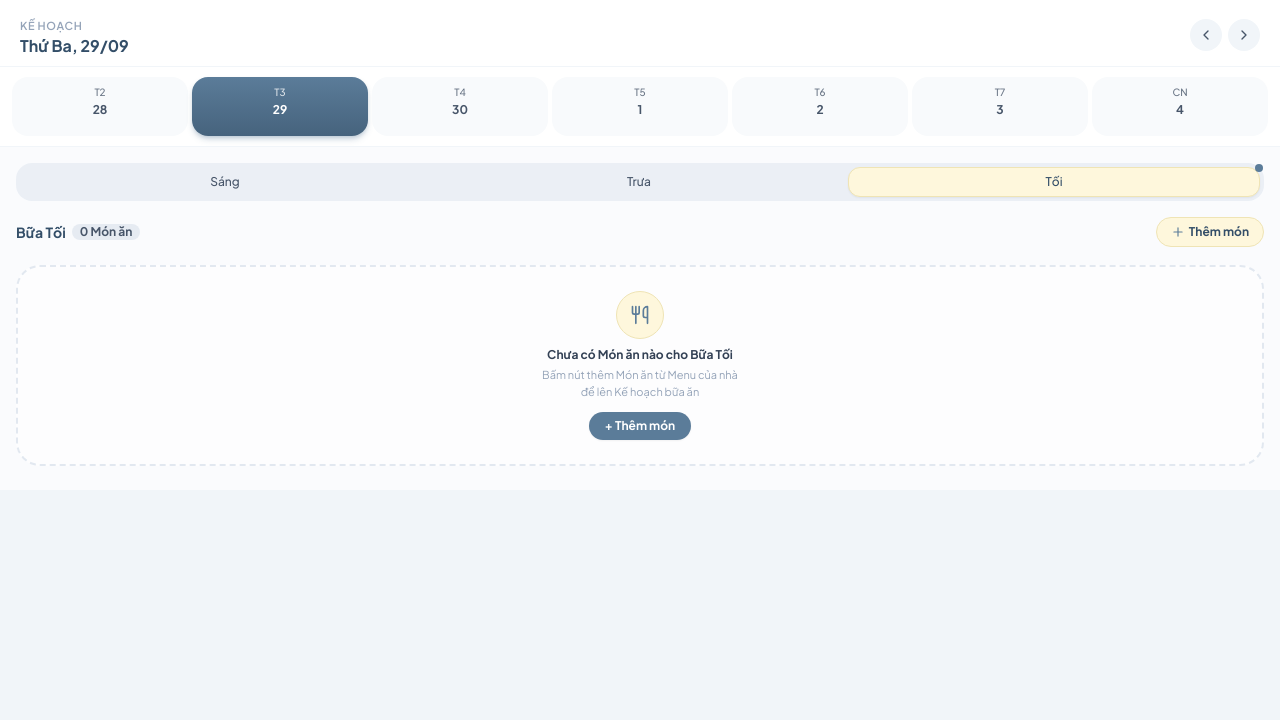
Test: Weekly Plan Integration › allows ticking one or multiple Món ăn and confirms adding them to current meal
// Open drawer
Click the button with test id "add-dish-to-plan-btn" at (1210, 232), box left=1156, top=217, right=1264, bottom=247
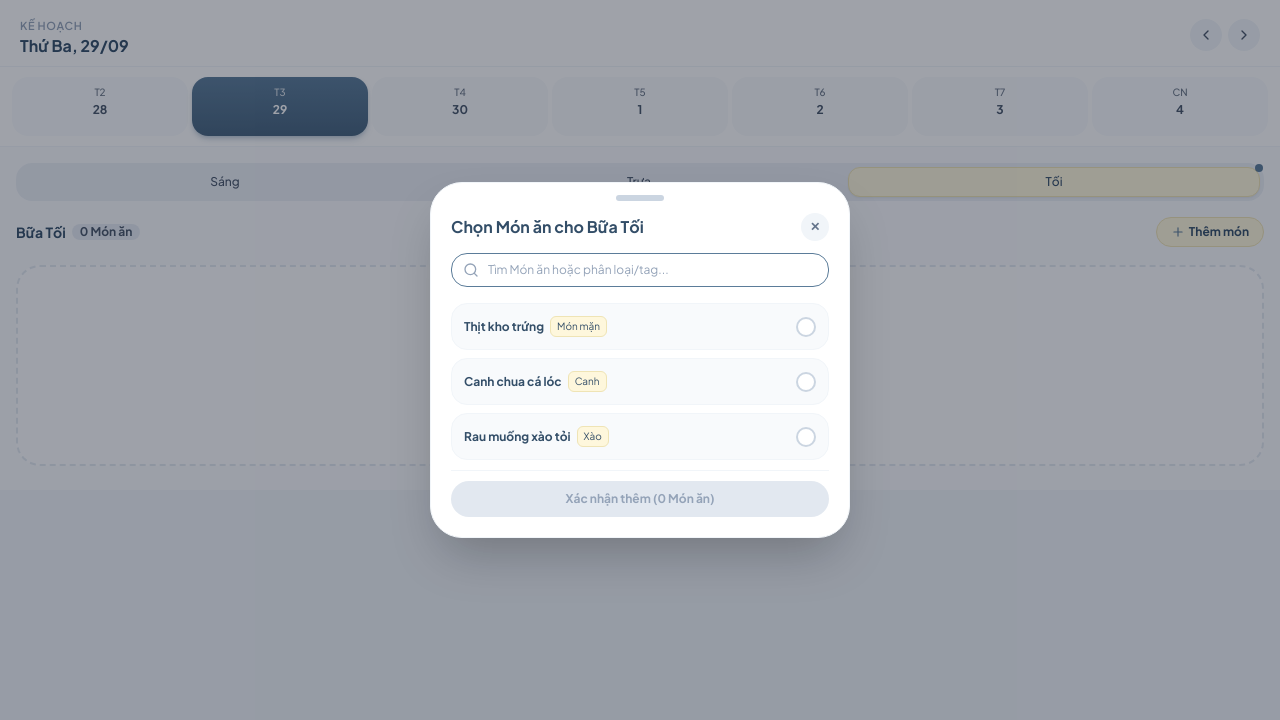
Click the element showing "Thịt kho trứng Món mặn" at (640, 326), box left=451, top=303, right=829, bottom=350
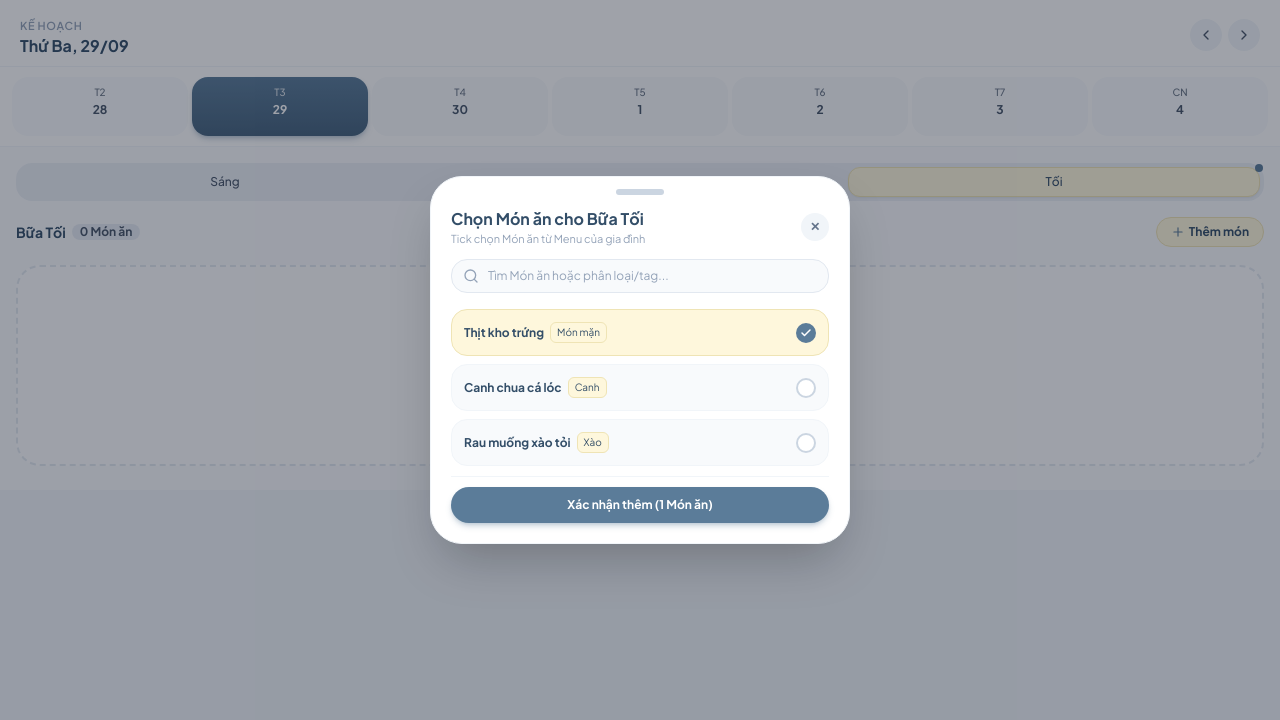
Click the element showing "Canh chua cá lóc Canh" at (640, 388), box left=451, top=364, right=829, bottom=411
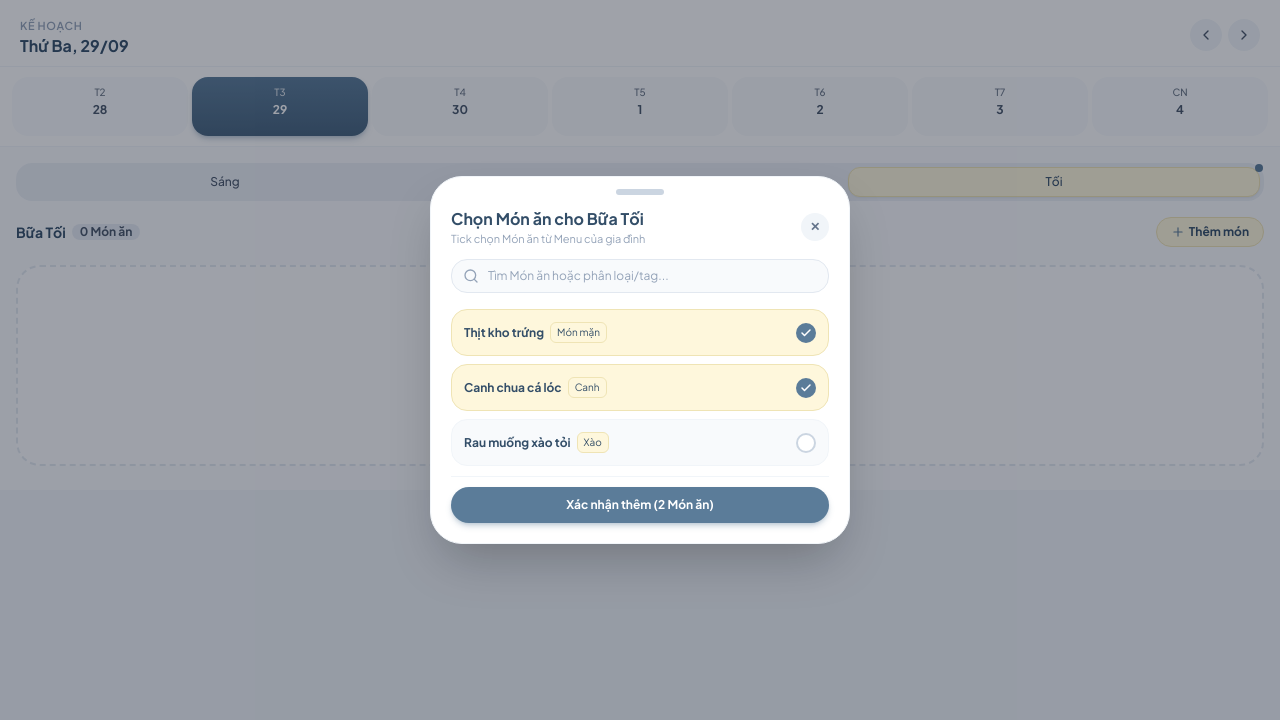
Result: the button with test id "confirm-add-dishes-btn" shows "2 Món ăn"
Click the button with test id "confirm-add-dishes-btn" at (640, 505), box left=451, top=487, right=829, bottom=523
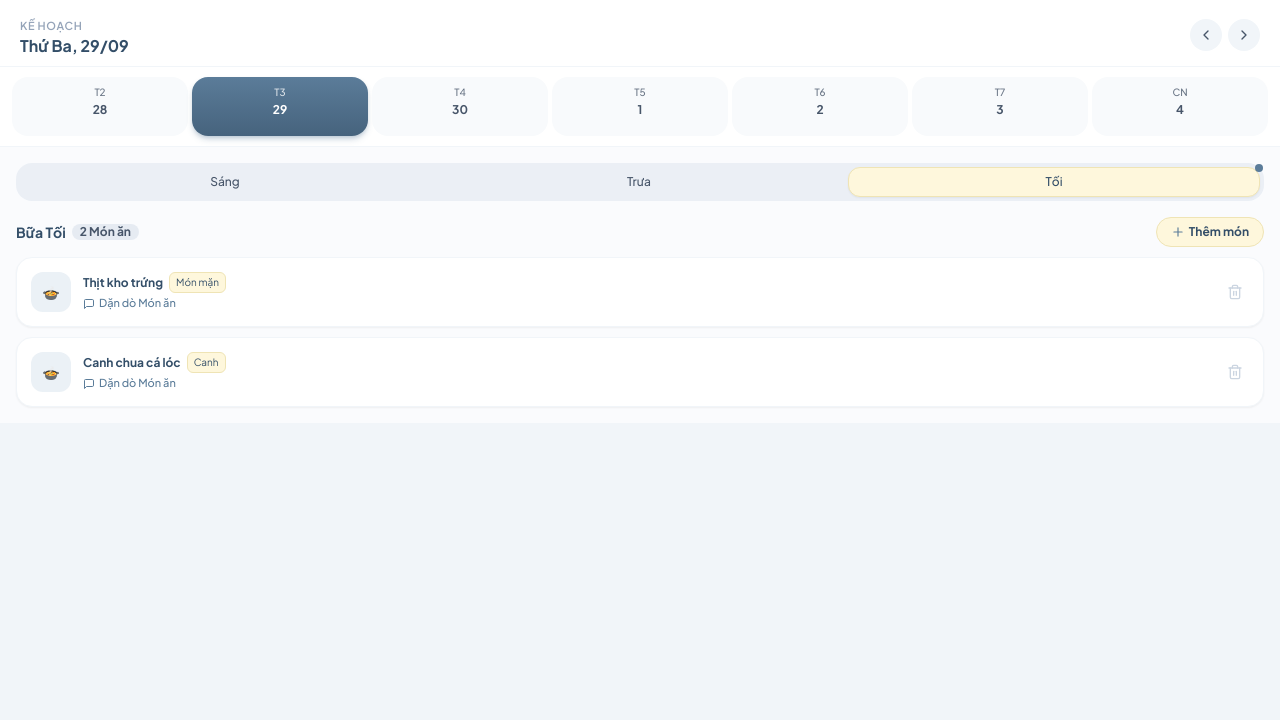
Result: the heading "Thịt kho trứng" is shown at left=83, top=275, right=163, bottom=291
Result: the heading "Canh chua cá lóc" is shown at left=83, top=355, right=181, bottom=371
Result: the dialog with test id "dish-picker-drawer" is gone
